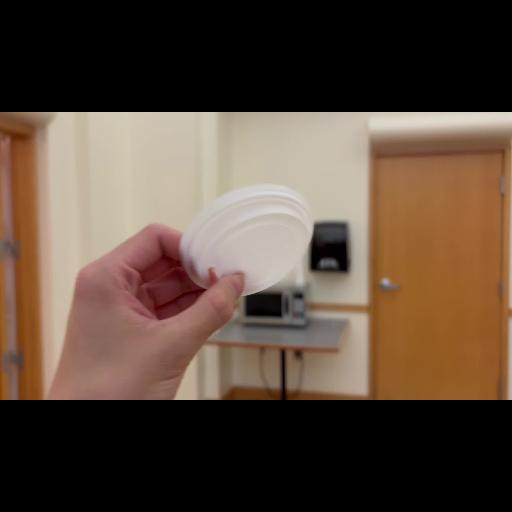lp_cup_lids: (174, 179, 322, 303)
